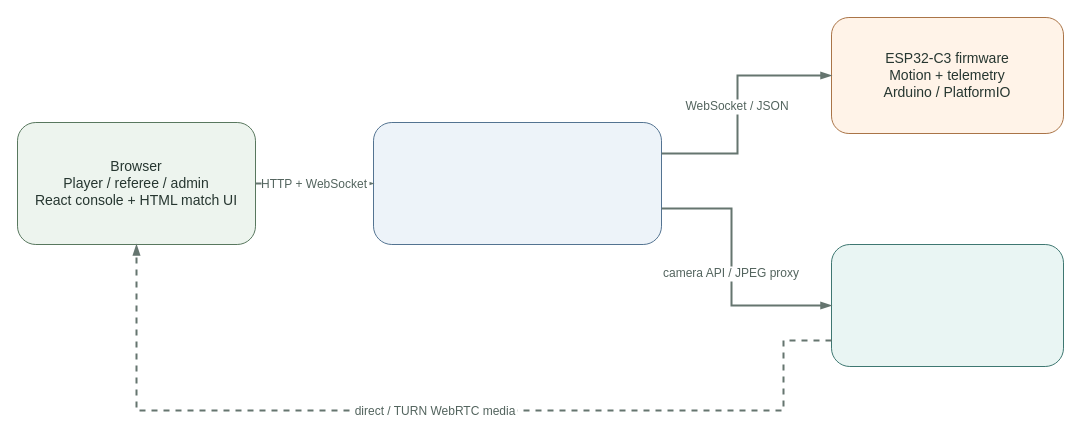
The diagram is 1081 pixels wide and 437 high, and some of its shapes have lost their labels. Here are the shapes that lost their labels. From the top down, the centre of each, then its label:
At [517,183]: "Go controller :8081 Identity, leases, match state Commands, API, video proxy".
At [947,305]: "Python video :8091 Camera, WebRTC, recording OpenCV / aiortc / Flask".
